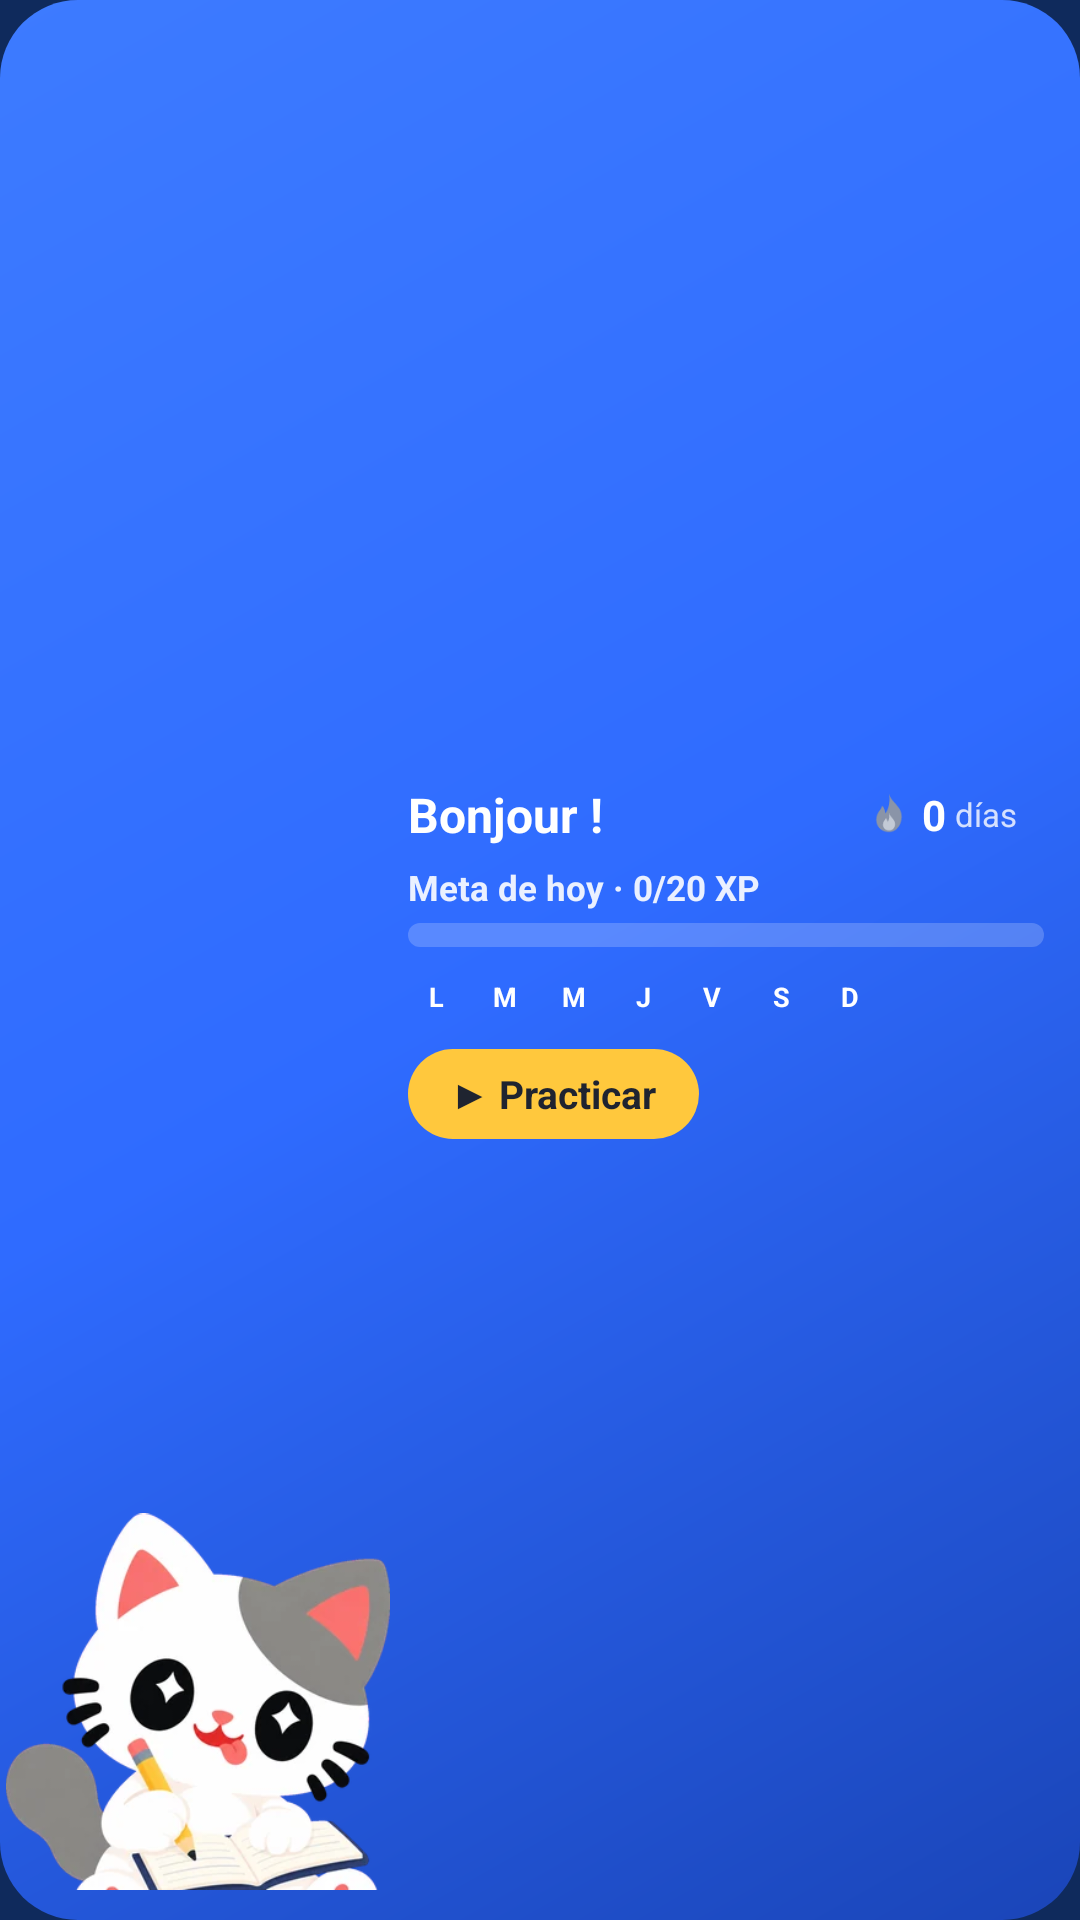

Screen size 1080w x 1920h. Icon name, then its center in pixels as (x=x, y=y):
Racha: (x=889, y=813)
